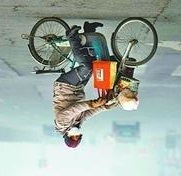person: (53, 20, 116, 148)
